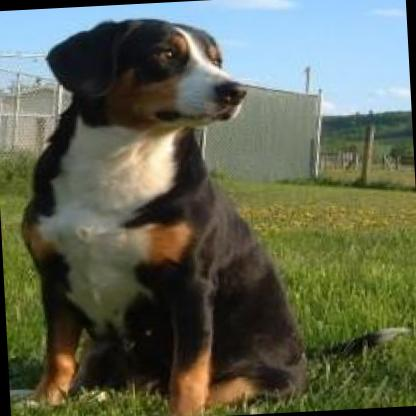EntleBucher: (0, 1, 409, 416)
